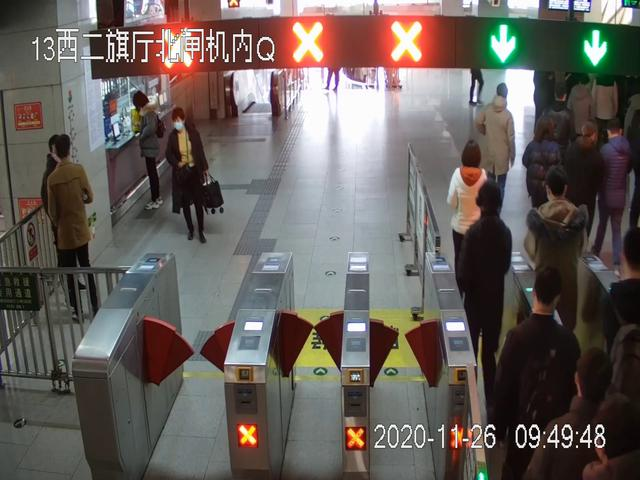person: (495, 268, 579, 480), (524, 166, 588, 378), (459, 180, 513, 383), (47, 134, 100, 321), (166, 108, 224, 245), (446, 141, 492, 301), (522, 117, 563, 263), (595, 116, 630, 263), (477, 83, 516, 214), (566, 121, 601, 257), (131, 88, 165, 207)
